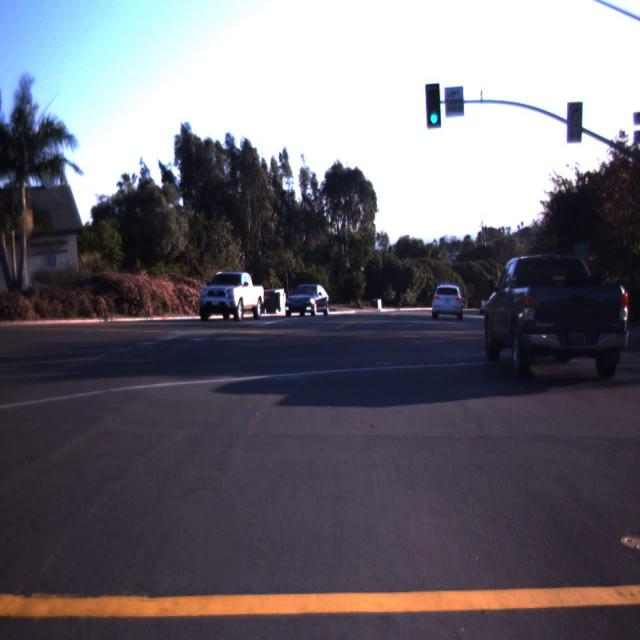go: (431, 115, 437, 123)
go traffic light: (425, 84, 443, 127)
